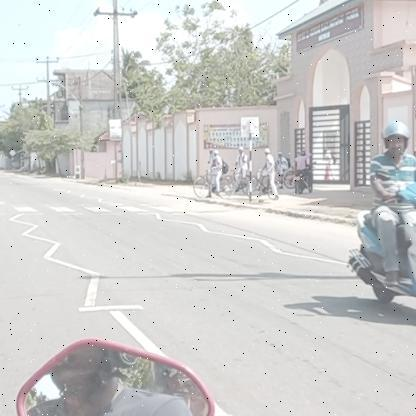motorcycle: (343, 181, 416, 332)
